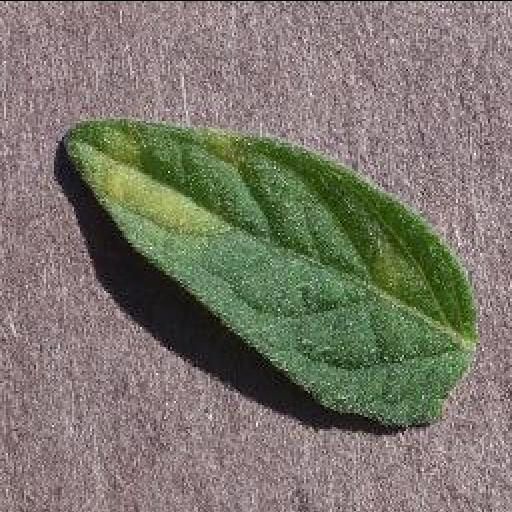disease_tomato: (64, 116, 478, 422)
